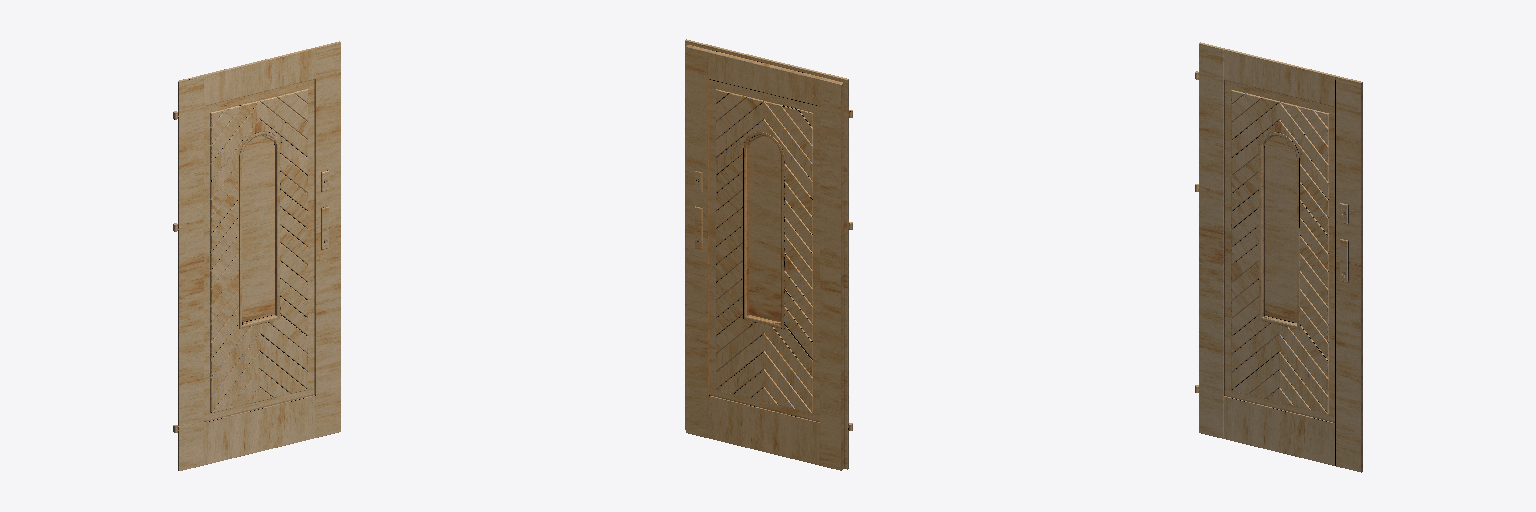
3 views of the same model, side by side, from view 1: azimuth 30°, elevation 25°; view 2: azimuth 150°, elevation 25°; view 3: azimuth 330°, elevation 25° (orthographic).
Size of the model in its own units: 90.25 by 201 by 6.56.
1 materials, 1 textured.